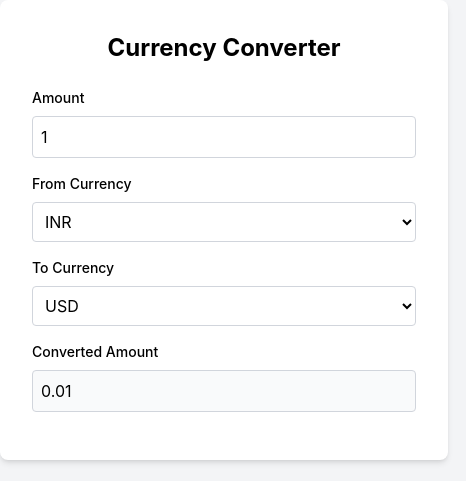
CurrencyConverter › handles currency change correctly
Expected: the dropdown showing "INR" is shown, [32,202,416,242]
Select "EUR" in the dropdown labelled "To Currency" at (224, 306), box [32,286,416,326]
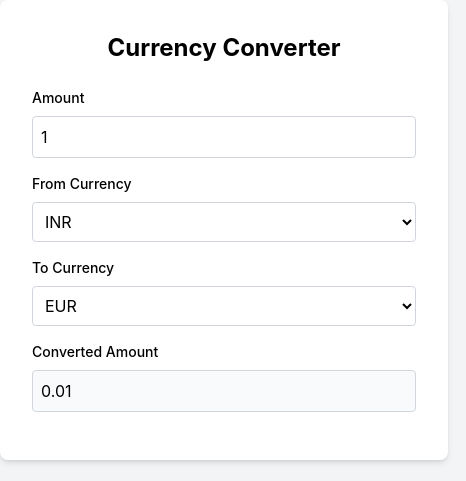
Replace the text in the number field labelled "Amount" with "100" at (224, 137), box [32,116,416,158]
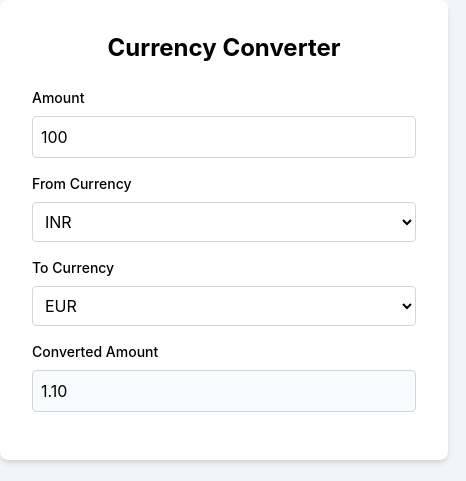
Result: the field labelled "Converted Amount" holds "1.10" at [32,370,416,412]
